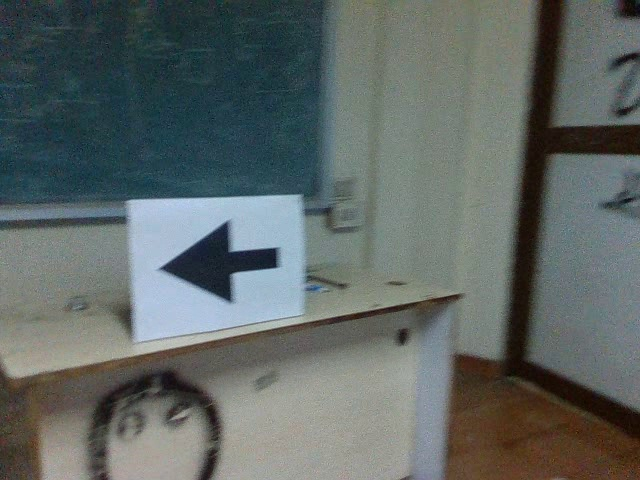Left: (156, 215, 282, 308)
